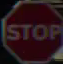Stop: (5, 3, 59, 57)
